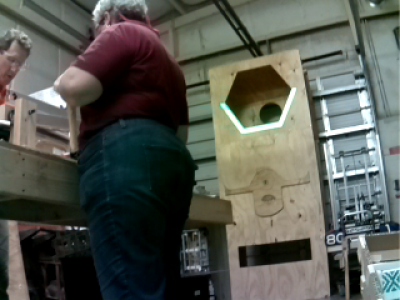target: (218, 88, 296, 133)
